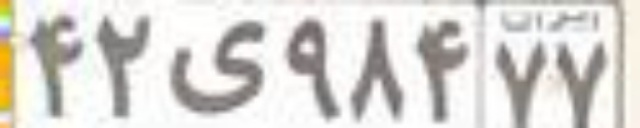2: (95, 14, 150, 117)
4: (30, 14, 81, 117), (417, 19, 468, 121)
7: (491, 40, 545, 127), (553, 39, 603, 127)
8: (350, 19, 405, 119)
9: (285, 18, 337, 118)
he: (170, 19, 265, 113)
